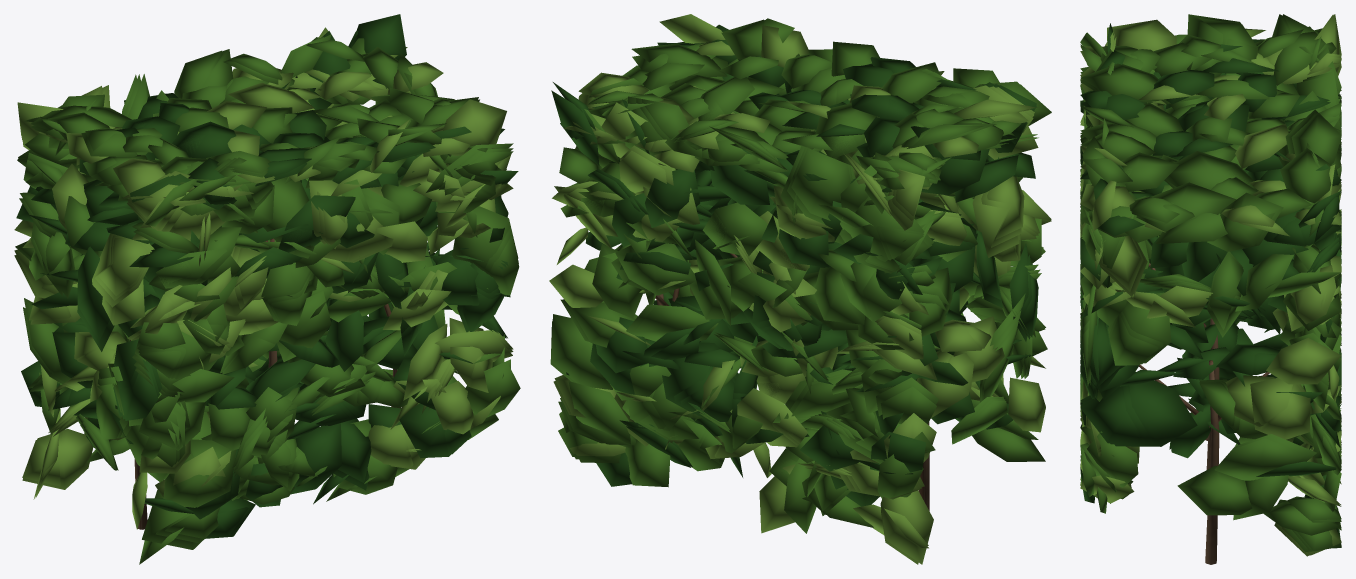
File: MV_Hedge_Straight_1m.fbx
The picture shows the model from 3 angles, left to right: view 1: azimuth 30°, elevation 25°; view 2: azimuth 150°, elevation 25°; view 3: azimuth 270°, elevation 25°; orthographic projection.
Visible parts, largest first — view 1: LOD0_Mesh, LOD1_Mesh, LOD2_Mesh; view 2: LOD0_Mesh, LOD1_Mesh, LOD2_Mesh; view 3: LOD0_Mesh, LOD1_Mesh, LOD2_Mesh.
Part boxes in pixels (x1,y1,x2,y2): LOD0_Mesh: (14,14,520,564); LOD1_Mesh: (14,36,518,543); LOD2_Mesh: (18,34,518,549); LOD0_Mesh: (549,14,1051,564); LOD1_Mesh: (551,43,1051,564); LOD2_Mesh: (562,42,1043,505); LOD0_Mesh: (1080,14,1341,564); LOD1_Mesh: (1080,14,1341,562); LOD2_Mesh: (1080,14,1341,552).
Bounding box in the file's own units: 1 × 1 × 0.6.
